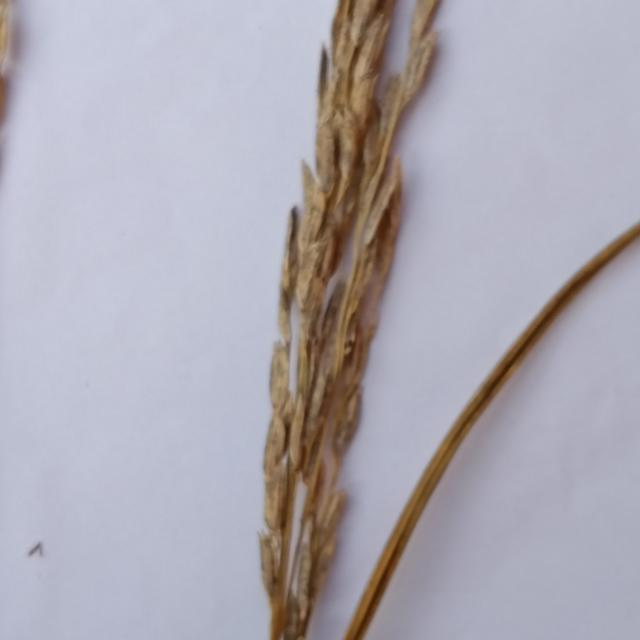Neck_Blast: (264, 0, 437, 638)
